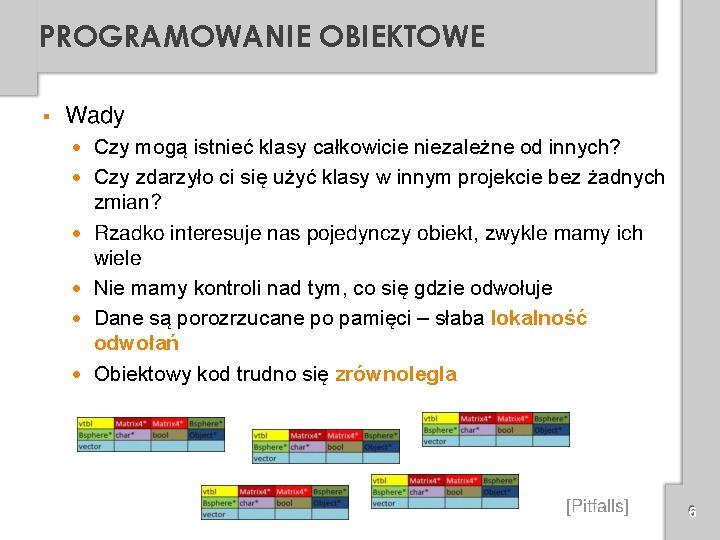paragraph: (60, 129, 671, 405)
subtitle: (40, 95, 152, 130)
title: (35, 13, 500, 64)
